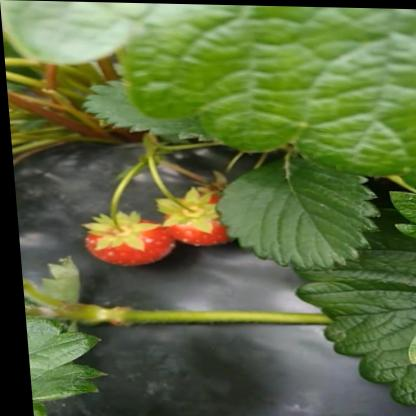ripe: (153, 192, 245, 248), (75, 214, 172, 266)
